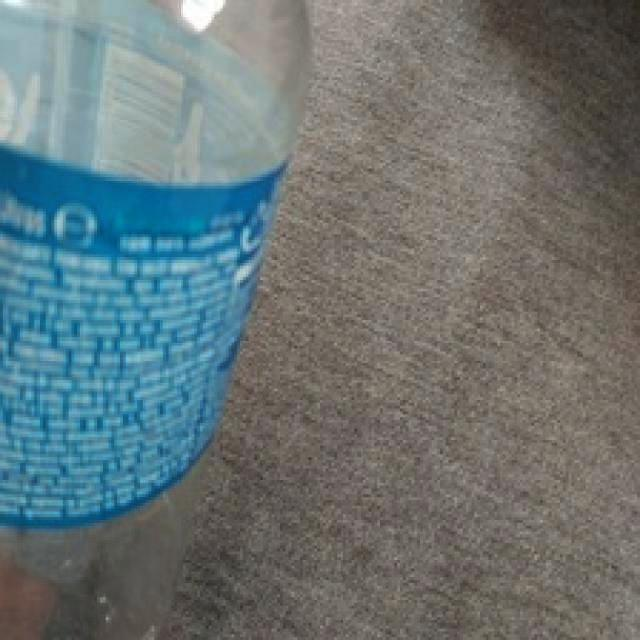bottle: (1, 0, 316, 640)
